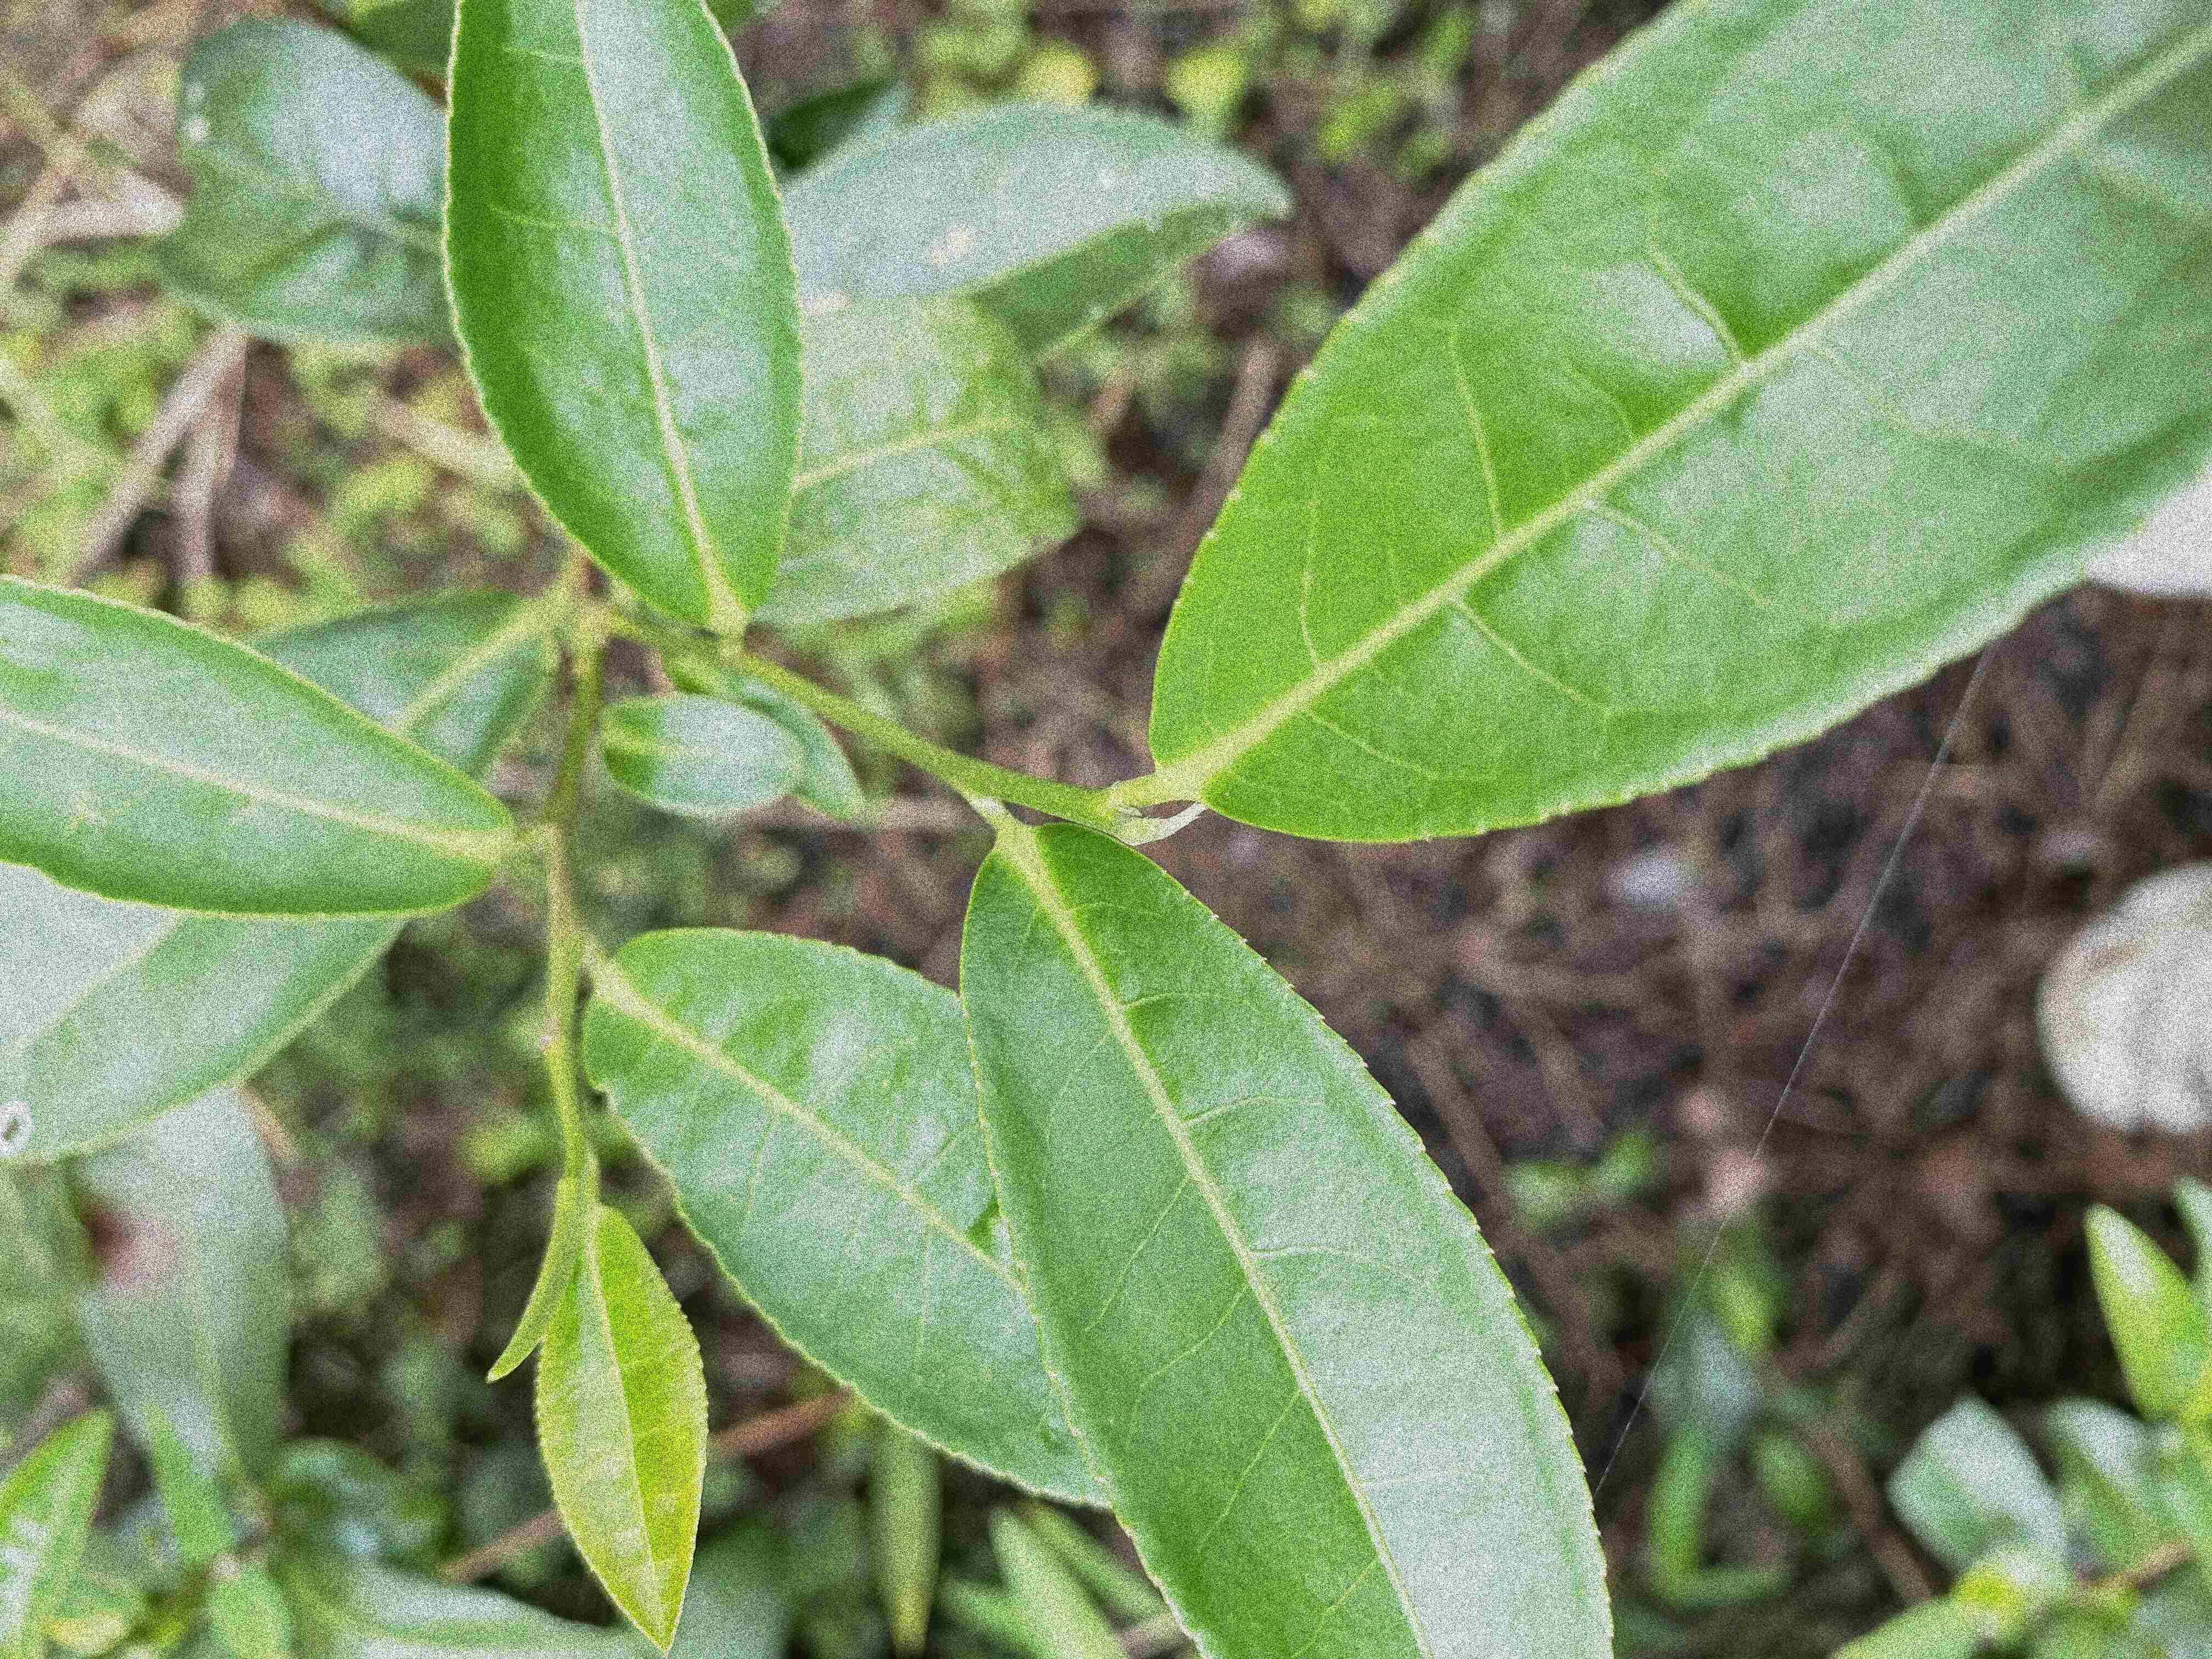healthy: (1148, 3, 2207, 842), (958, 817, 1616, 1656), (580, 917, 1106, 1509), (434, 0, 808, 631), (3, 570, 512, 920), (531, 1201, 711, 1652)
